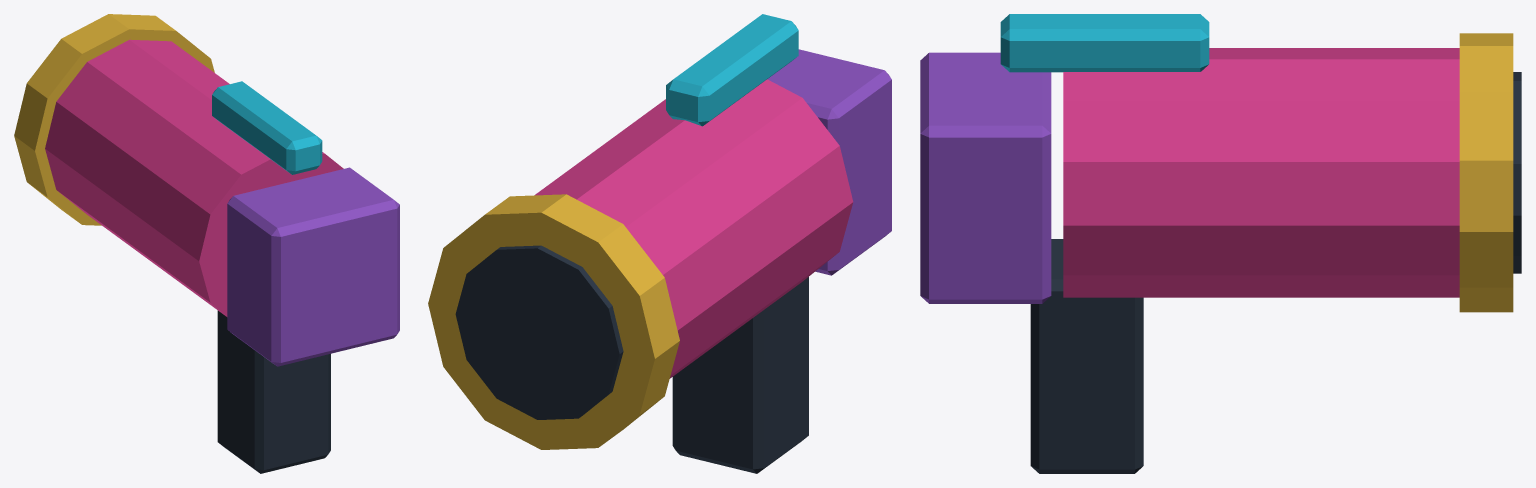
File: confetti-cannon.glb
3 renders of one model, left to right at view 1: azimuth 30°, elevation 25°; view 2: azimuth 150°, elevation 25°; view 3: azimuth 270°, elevation 25°, orthographic. The views are drawn at different scales.
Visible parts, largest first — view 1: confetti-cannon_Body, confetti-cannon_Mechanism; view 2: confetti-cannon_Body, confetti-cannon_Mechanism; view 3: confetti-cannon_Body, confetti-cannon_Mechanism.
Boxes of the visible parts, box(x1,y1,x2,y2) form: confetti-cannon_Body: box(14, 14, 399, 473); confetti-cannon_Mechanism: box(212, 81, 322, 174); confetti-cannon_Body: box(428, 49, 891, 473); confetti-cannon_Mechanism: box(666, 14, 798, 126); confetti-cannon_Body: box(920, 33, 1521, 473); confetti-cannon_Mechanism: box(1000, 14, 1209, 72).
Bounding box in the file's own units: 0.47 × 0.8 × 1.01.
